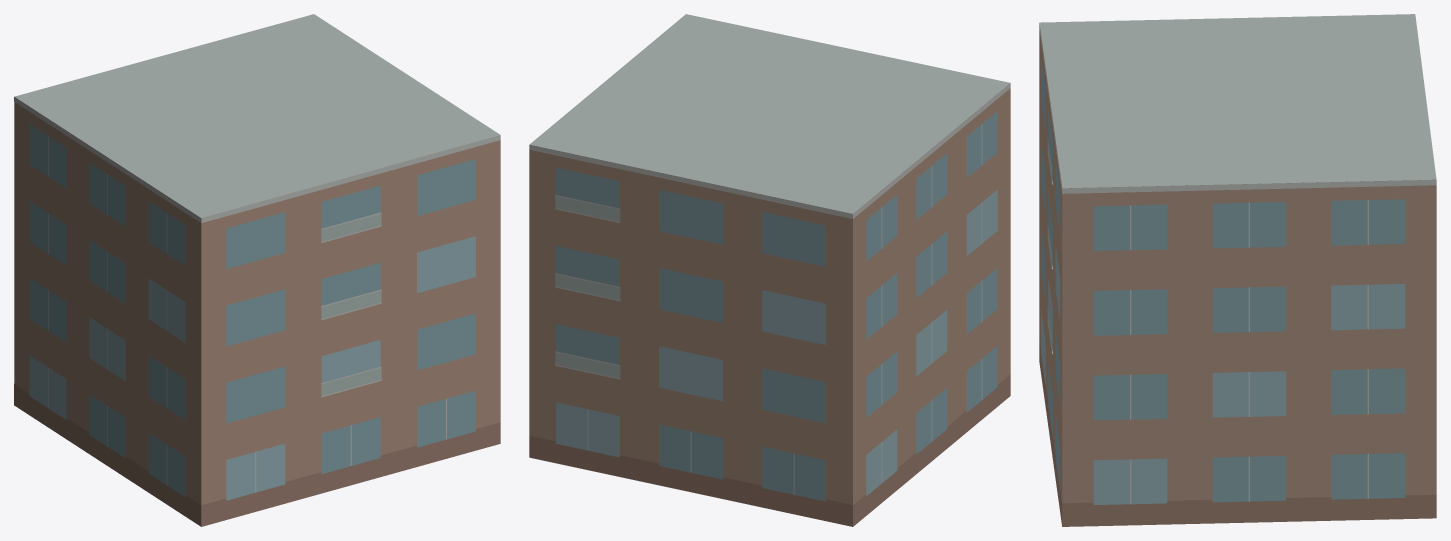
Rendered from survey-upis-32782028.glb.
The picture shows the model from 3 angles, left to right: view 1: azimuth 30°, elevation 25°; view 2: azimuth 150°, elevation 25°; view 3: azimuth 270°, elevation 25°; orthographic projection. The views are drawn at different scales.
Visible parts, largest first — view 1: survey-upis-32782028.tmp; view 2: survey-upis-32782028.tmp; view 3: survey-upis-32782028.tmp.
Part boxes in pixels (bbox=[...]): survey-upis-32782028.tmp: bbox=[14, 14, 500, 526]; survey-upis-32782028.tmp: bbox=[529, 14, 1010, 526]; survey-upis-32782028.tmp: bbox=[1039, 14, 1436, 526].
Bounding box in the file's own units: 16.35 × 14.8 × 15.74.
